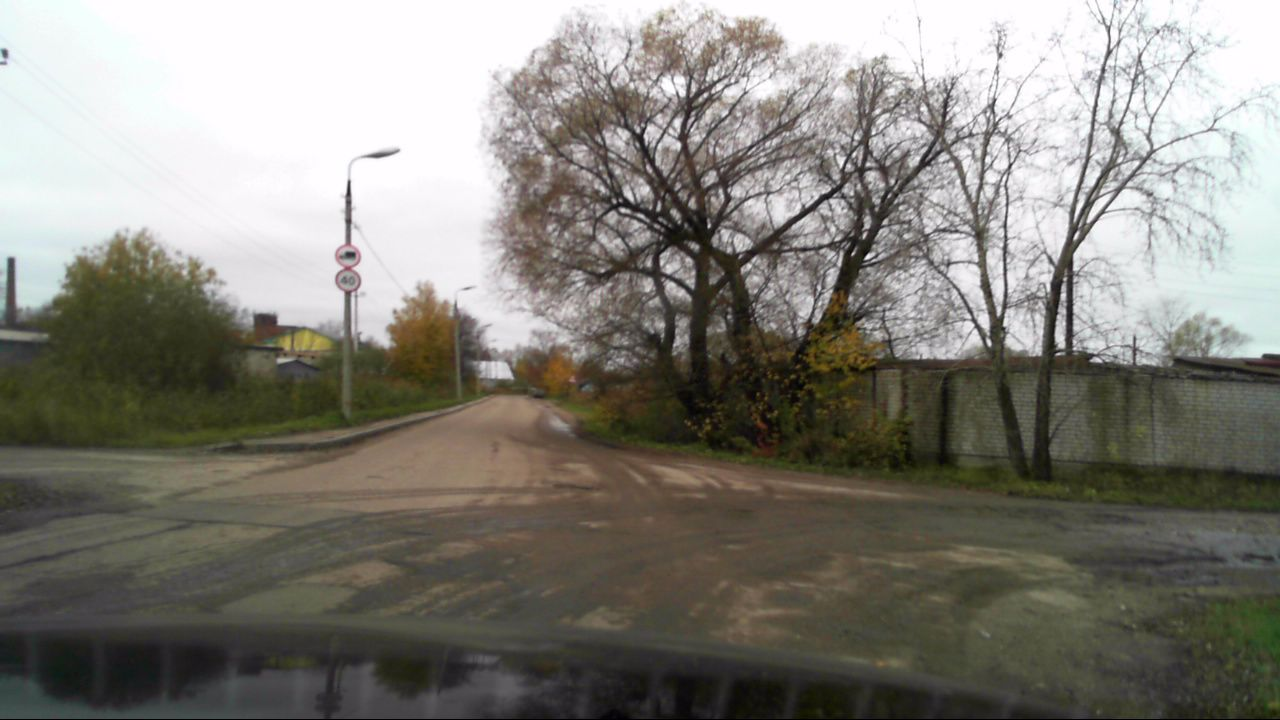speed_warning_40: (335, 269, 360, 292)
